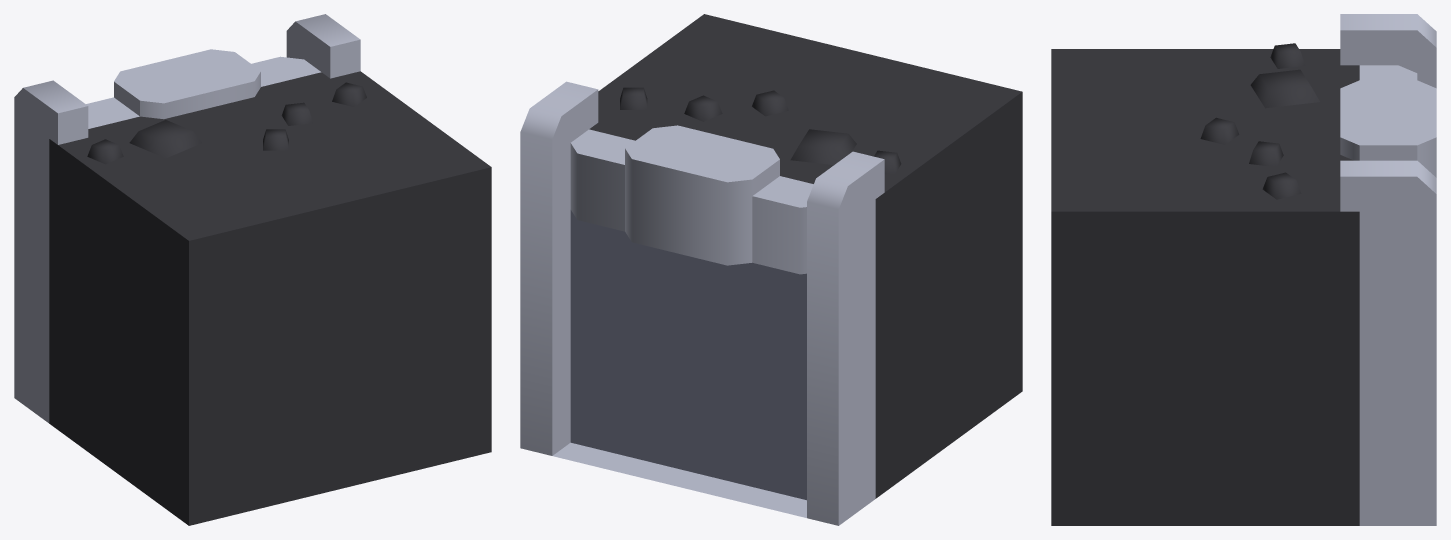
Rendered from wall-half.glb.
3 views of the same model, side by side, from view 1: azimuth 30°, elevation 25°; view 2: azimuth 150°, elevation 25°; view 3: azimuth 270°, elevation 25° (orthographic). The views are drawn at different scales.
Visible parts, largest first — view 1: wall-half; view 2: wall-half; view 3: wall-half.
Boxes of the visible parts, box(x1,y1,x2,y2) form: wall-half: box(14, 14, 491, 525); wall-half: box(520, 14, 1022, 525); wall-half: box(1051, 14, 1436, 525).
Bounding box in the file's own units: 1 × 1 × 1.
